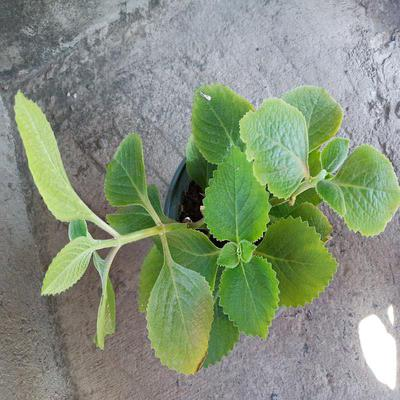Oregano: (113, 85, 382, 369)
